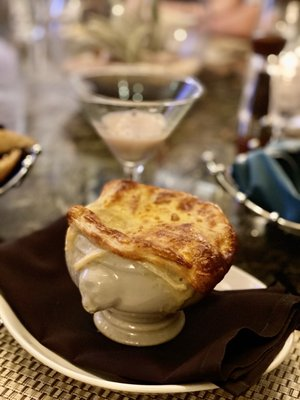soup: (63, 178, 239, 347)
